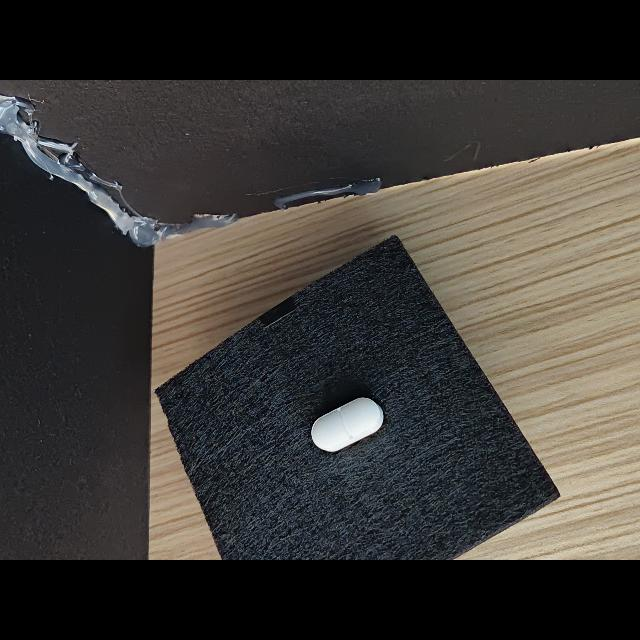Intact Pill: (311, 397, 384, 452)
